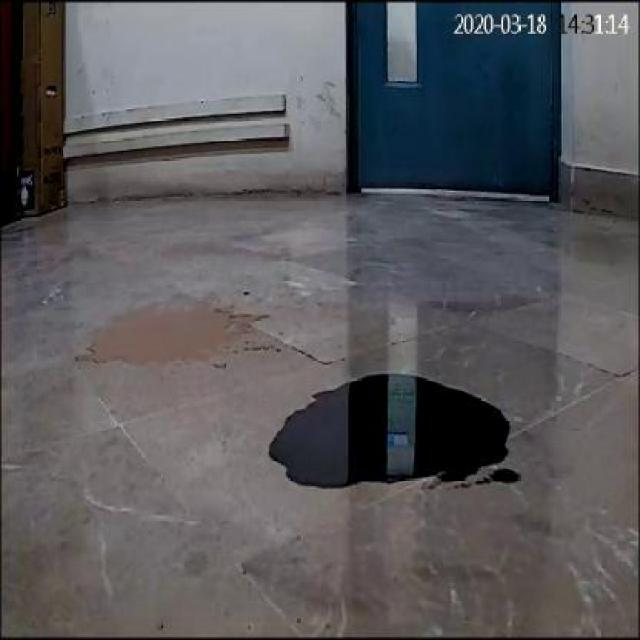spill: (270, 371, 504, 502)
